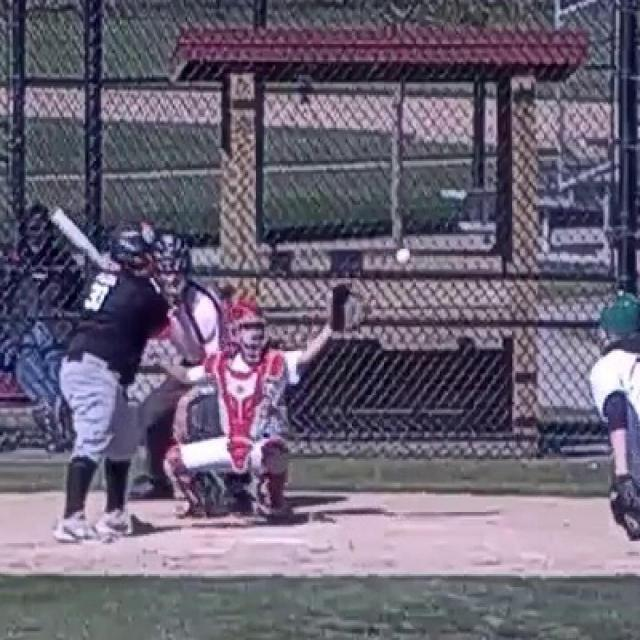baseball: (396, 249, 410, 263)
